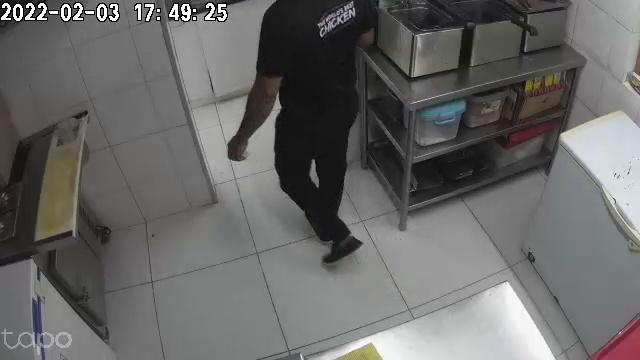no_gloves: (226, 130, 254, 161)
